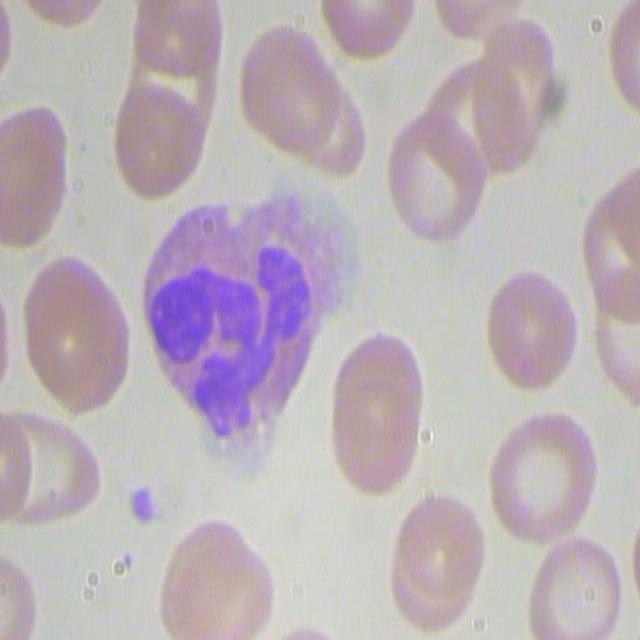RBC: (231, 22, 367, 194), (435, 3, 563, 179), (18, 253, 133, 421), (325, 328, 427, 499), (490, 403, 602, 550), (154, 517, 276, 638), (384, 113, 488, 250), (109, 67, 213, 203), (383, 492, 479, 630), (0, 404, 99, 535), (125, 2, 228, 122), (482, 268, 578, 392), (521, 529, 625, 638), (478, 3, 566, 123), (0, 101, 70, 249), (581, 165, 640, 334), (314, 0, 422, 64), (0, 569, 44, 640)
WBC: (144, 195, 325, 475)
platelets: (125, 480, 163, 528)
